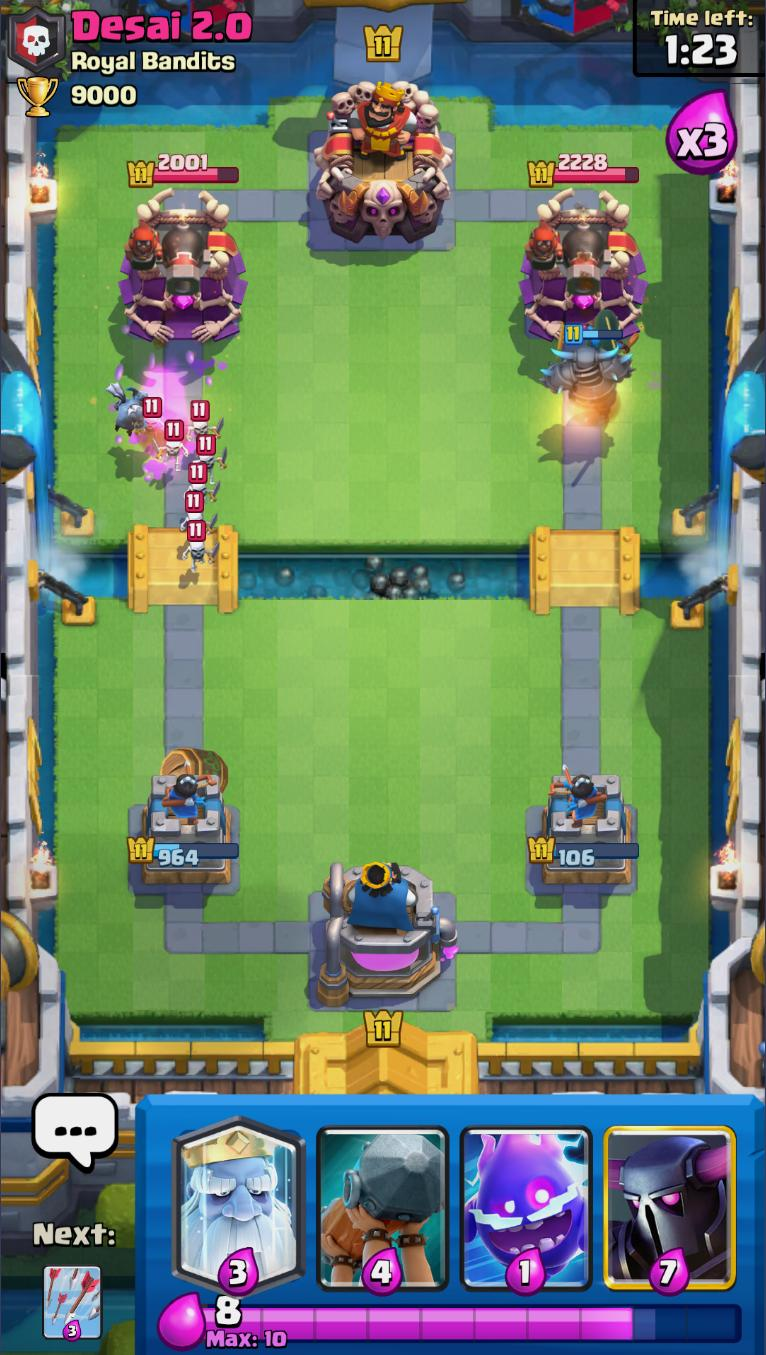ArrowNext: (41, 1261, 101, 1346)
BattleRamDeck: (310, 1094, 456, 1299)
Cannoneer: (524, 214, 609, 300), (127, 216, 207, 300)
ElectroSpiritDeck: (456, 1096, 597, 1293)
Elixir: (203, 1296, 743, 1346)
EnemyTower: (121, 187, 250, 343), (520, 189, 650, 343)
GoblinBarrel: (157, 746, 230, 796)
KingTower: (314, 77, 456, 246)
MyBandit: (584, 309, 641, 361)
MyKingTower: (319, 860, 457, 1011)
MyMinion: (103, 383, 149, 434)
MyPekka: (541, 324, 637, 430)
MyPrincessTower: (527, 774, 641, 890), (127, 776, 241, 890)
MyPrincessTowerHP: (127, 833, 241, 869), (526, 836, 641, 869)
PekkaDeck: (596, 1096, 741, 1293)
RoyaleGhostDeck: (167, 1094, 313, 1294)
Skeleton: (149, 417, 189, 471), (181, 521, 217, 577), (179, 491, 220, 534), (183, 461, 223, 504), (189, 433, 230, 474), (183, 400, 226, 437), (139, 396, 169, 434)
TowerPrincessHP: (129, 153, 241, 189), (529, 153, 640, 189)
